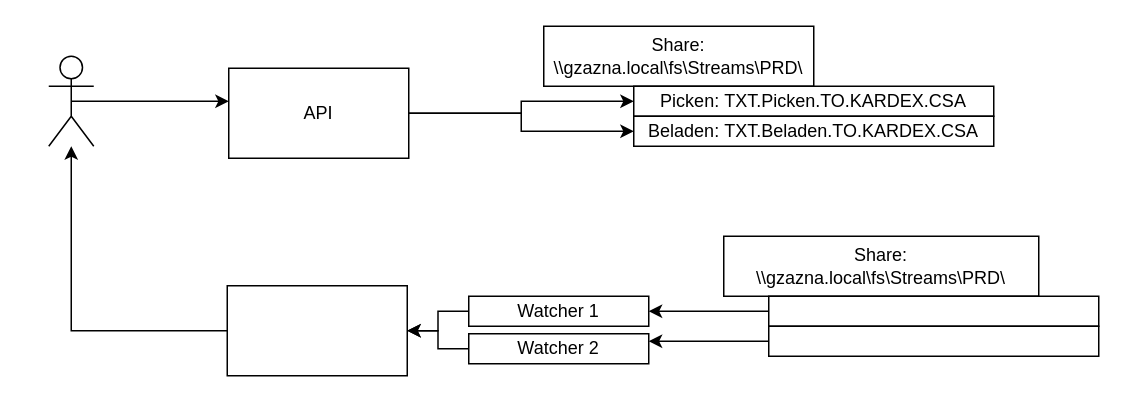
This 1125x402 diagram has some shape labels left out. The shapes that lost their labels are listed below. From the top down, each one's centre as x and y in pixels, then its label:
(x=70, y=100): HiX/Comez
(x=316, y=330): Worker
(x=933, y=310): TXT.StatusIN.FROM.KARDEX.CSA
(x=933, y=340): TXT.StatusOUT.FROM.KARDEX.CSA
